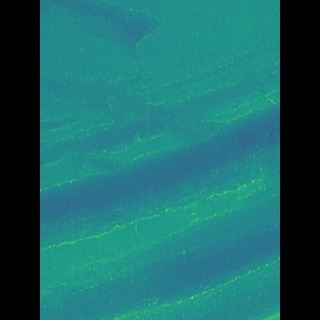Loch: (69, 74, 249, 320)
